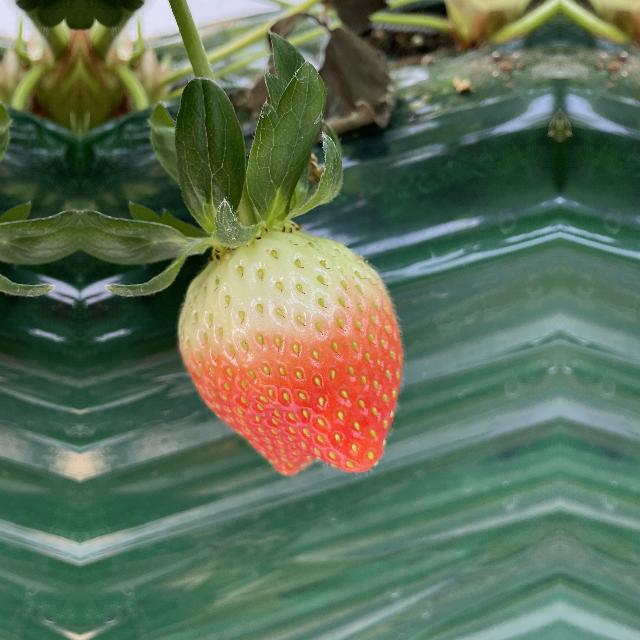Health_75: (171, 232, 411, 482)
